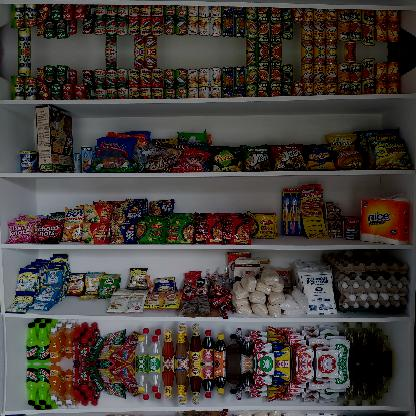Koko-Krunch: (35, 104, 74, 172)
